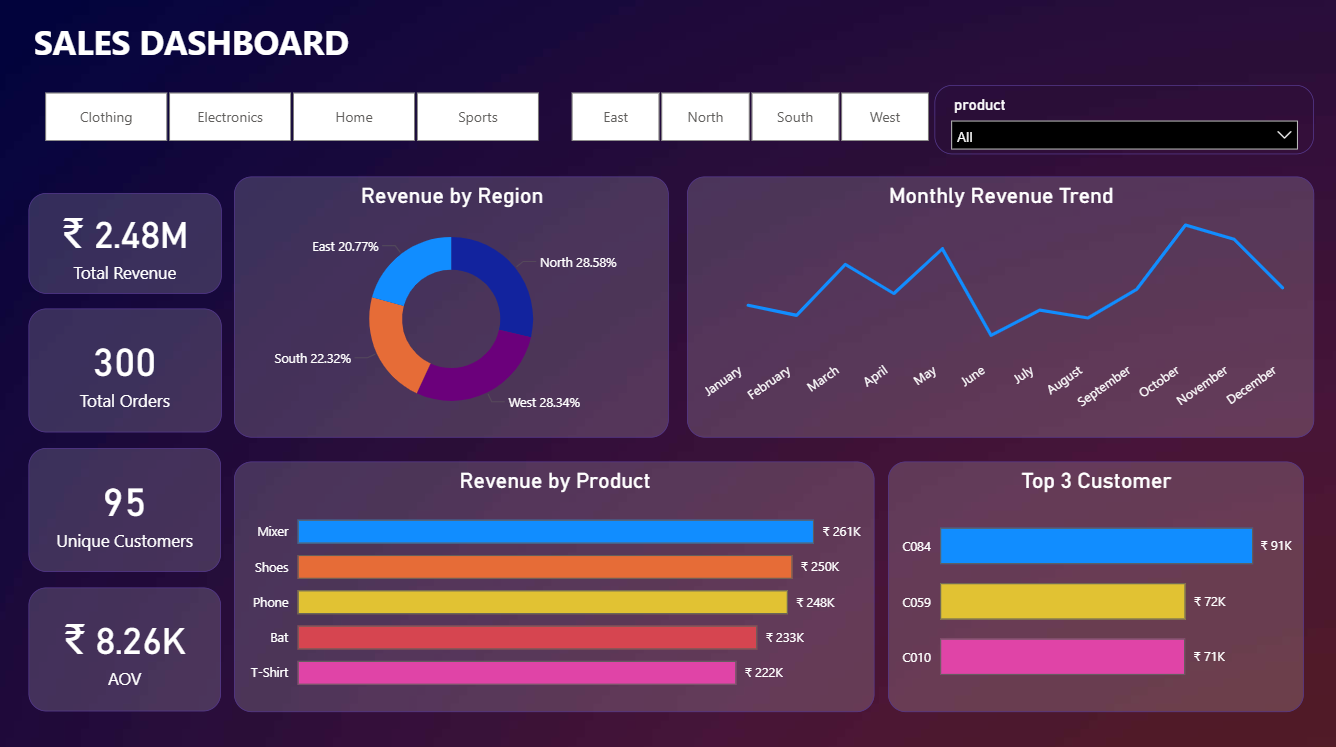

The dashboard page shown, as its layout file describes it:
{"tool":"powerbi","page":{"name":"Page 1","canvas":[1280,720],"ordinal":0},"visuals":[{"type":"textbox","box":[340.7,13.6,599.6,53],"z":0},{"type":"card","fields":{"Values":["orders.Total Revenue"]},"box":[30.3,66.6,195.3,96.9],"z":1000},{"type":"card","fields":{"Values":["orders.Total Orders"]},"box":[442.5,66.6,189.3,96.9],"z":2000},{"type":"card","fields":{"Values":["orders.Unique Customers"]},"box":[643.2,66.6,189.3,96.9],"z":3000},{"type":"card","fields":{"Values":["orders.AOV"]},"box":[237.1,66.6,193.8,96.9],"z":4000},{"type":"slicer","fields":{"Values":["orders.region"]},"box":[1044.8,180.2,189.3,75.7],"z":5000},{"type":"slicer","fields":{"Values":["orders.category"]},"box":[1044.8,266.5,189.3,74.2],"z":6000},{"type":"slicer","fields":{"Values":["orders.product"]},"box":[1047.8,355.8,186.2,72.7],"z":7000},{"type":"barChart","title":"Top Revenue Generating Product","fields":{"Category":["orders.product"],"Y":["Sum(orders.revenue)"]},"box":[28.8,439.1,392.2,234.7],"z":8000},{"type":"donutChart","title":"Revenue by Region","fields":{"Category":["orders.region","orders.product","orders.customer_id"],"Y":["Sum(orders.revenue)"]},"box":[28.8,180.2,414.9,248.3],"z":9000},{"type":"lineChart","title":"Monthly Revenue Trend","fields":{"Category":["orders.order_date.Variation.Date Hierarchy.Month"],"Y":["Sum(orders.revenue)"]},"box":[457.3,180.2,558.7,248.3],"z":10000},{"type":"barChart","title":"Top Revenue Generating Customer","fields":{"Category":["orders.customer_id"],"Y":["Sum(orders.revenue)"]},"box":[431.5,439.1,345.2,234.7],"z":11000},{"type":"card","fields":{"Values":["orders.Revenue Per Customer"]},"box":[844,66.6,189.3,96.9],"z":12000},{"type":"card","fields":{"Values":["orders.Orders Per Customer"]},"box":[1044.8,66.6,189.3,96.9],"z":13000},{"type":"textbox","box":[783.8,439.2,459.5,235.1],"z":14000}]}

Visuals, with their boxes in screenshot pixels (x1, y1, x2, y2), scaled from the page's 1280x720 canvas onto the 1336x747 screenshot:
textbox: left=356, top=14, right=981, bottom=69
card - orders.Total Revenue: left=32, top=69, right=235, bottom=170
card - orders.Total Orders: left=462, top=69, right=659, bottom=170
card - orders.Unique Customers: left=671, top=69, right=869, bottom=170
card - orders.AOV: left=247, top=69, right=450, bottom=170
slicer - orders.region: left=1091, top=187, right=1288, bottom=265
slicer - orders.category: left=1091, top=276, right=1288, bottom=353
slicer - orders.product: left=1094, top=369, right=1288, bottom=445
"Top Revenue Generating Product" barChart: left=30, top=456, right=439, bottom=699
"Revenue by Region" donutChart: left=30, top=187, right=463, bottom=445
"Monthly Revenue Trend" lineChart: left=477, top=187, right=1060, bottom=445
"Top Revenue Generating Customer" barChart: left=450, top=456, right=811, bottom=699
card - orders.Revenue Per Customer: left=881, top=69, right=1079, bottom=170
card - orders.Orders Per Customer: left=1091, top=69, right=1288, bottom=170
textbox: left=818, top=456, right=1298, bottom=700
